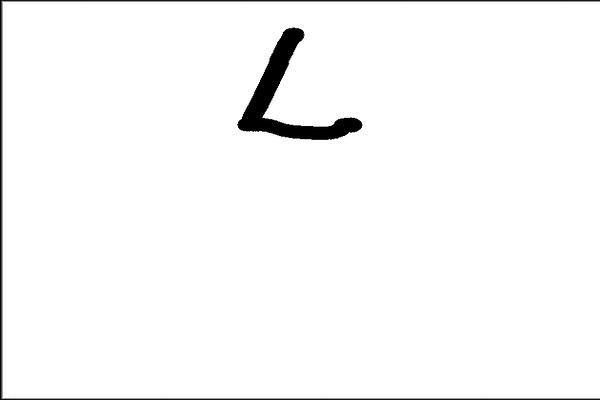L: (228, 19, 366, 147)
